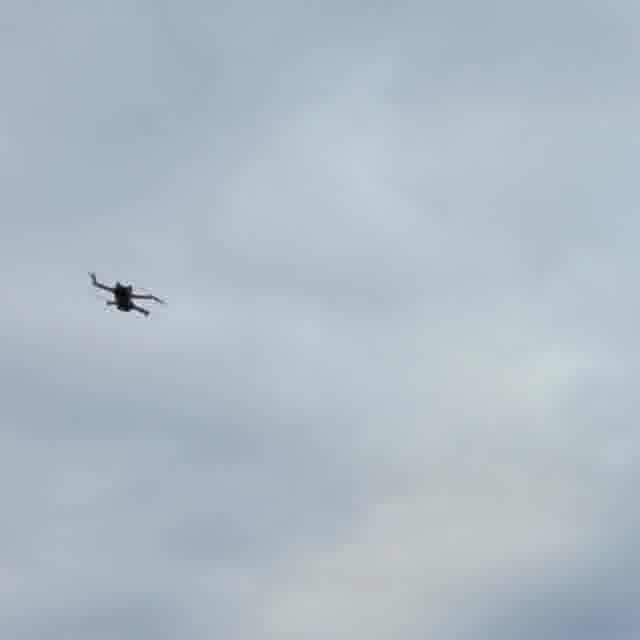Drohne: (90, 272, 164, 315)
